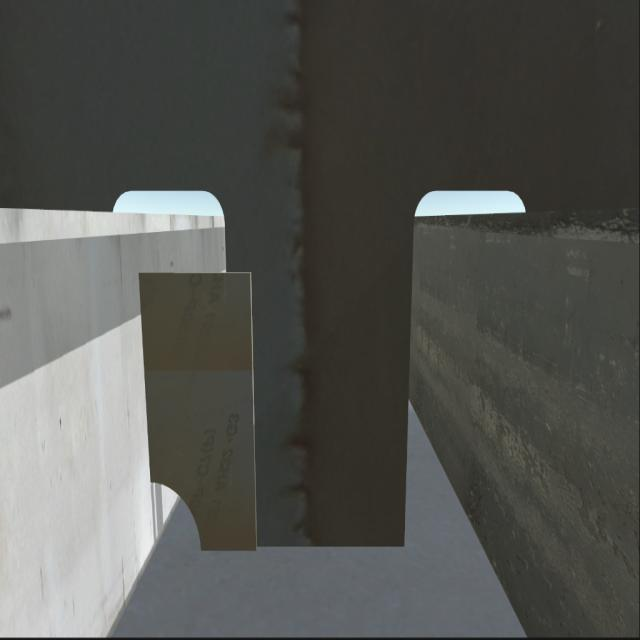fillet_hole: (146, 474, 205, 546)
fillet_yong_jeop_jang: (193, 534, 406, 564)
longi_yong_jeop_jang: (140, 271, 154, 490)
plate_CP01: (145, 276, 251, 548)
